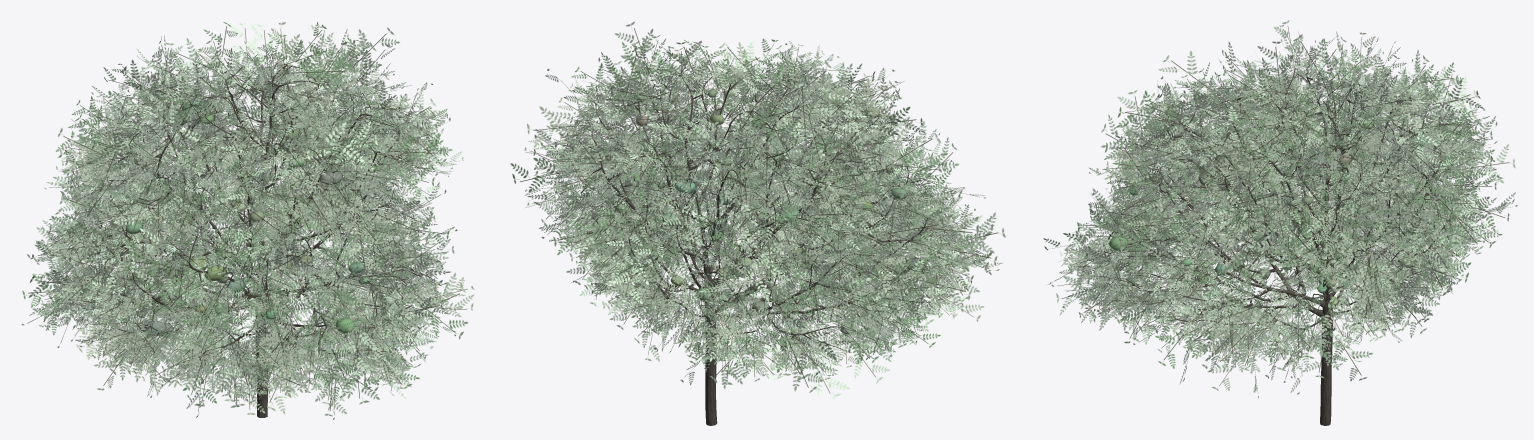
File: tree_52_broadleaf.glb
The picture shows the model from 3 angles, left to right: view 1: azimuth 30°, elevation 25°; view 2: azimuth 150°, elevation 25°; view 3: azimuth 270°, elevation 25°; orthographic projection. The views are drawn at different scales.
Parts seen in each view (by area): view 1: tree_52_broadleaf.leaves, tree_52_broadleaf.trunk_branches, tree_52_broadleaf.foliage_volume; view 2: tree_52_broadleaf.leaves, tree_52_broadleaf.trunk_branches, tree_52_broadleaf.foliage_volume; view 3: tree_52_broadleaf.leaves, tree_52_broadleaf.trunk_branches, tree_52_broadleaf.foliage_volume.
Part boxes in pixels (x1=…): tree_52_broadleaf.leaves: x1=21, y1=22, x2=474, y2=419; tree_52_broadleaf.trunk_branches: x1=69, y1=65, x2=421, y2=417; tree_52_broadleaf.foliage_volume: x1=78, y1=73, x2=370, y2=359; tree_52_broadleaf.leaves: x1=510, y1=21, x2=1005, y2=399; tree_52_broadleaf.trunk_branches: x1=568, y1=66, x2=940, y2=425; tree_52_broadleaf.foliage_volume: x1=592, y1=70, x2=926, y2=334; tree_52_broadleaf.leaves: x1=1043, y1=20, x2=1517, y2=398; tree_52_broadleaf.trunk_branches: x1=1098, y1=68, x2=1452, y2=425; tree_52_broadleaf.foliage_volume: x1=1108, y1=100, x2=1452, y2=306.
Size of the model in its own units: 11.3 by 10.05 by 11.51.
Materials: 3 (2 with a texture image).
